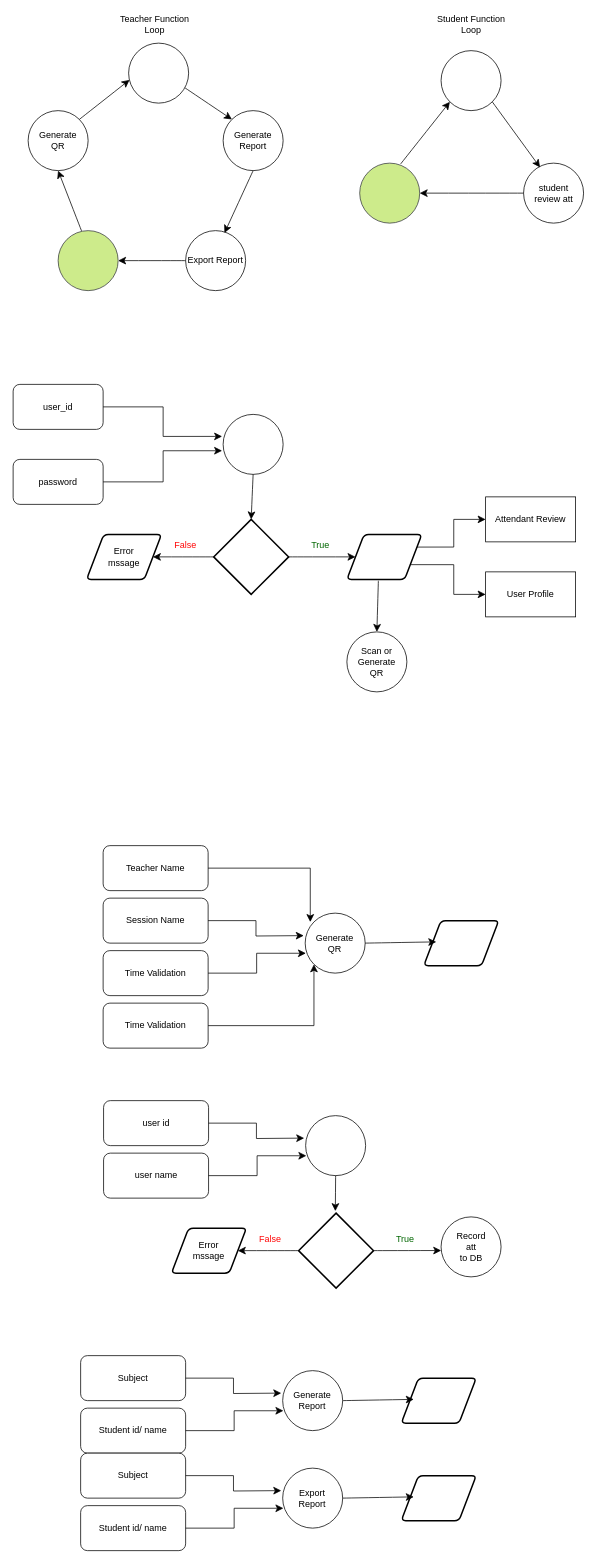
Image size: 597x1564. Some labels were removed from this diagram. The box of each missing label's shape, as (x1, y1, x2, y2) in pixels:
check duplicate: (297, 1212, 374, 1288)
check user: (213, 518, 289, 595)
Display QR: (423, 920, 499, 966)
Display Report: (400, 1377, 477, 1424)
login: (222, 414, 283, 474)
Report file: (400, 1474, 477, 1521)
Review / Edit Att: (128, 42, 189, 103)
Scan QR: (305, 1115, 366, 1176)
Student Dashboard: (346, 533, 422, 580)
student login: (359, 162, 420, 223)
student Scan QR: (440, 50, 501, 111)
Teacher login: (57, 230, 118, 291)
